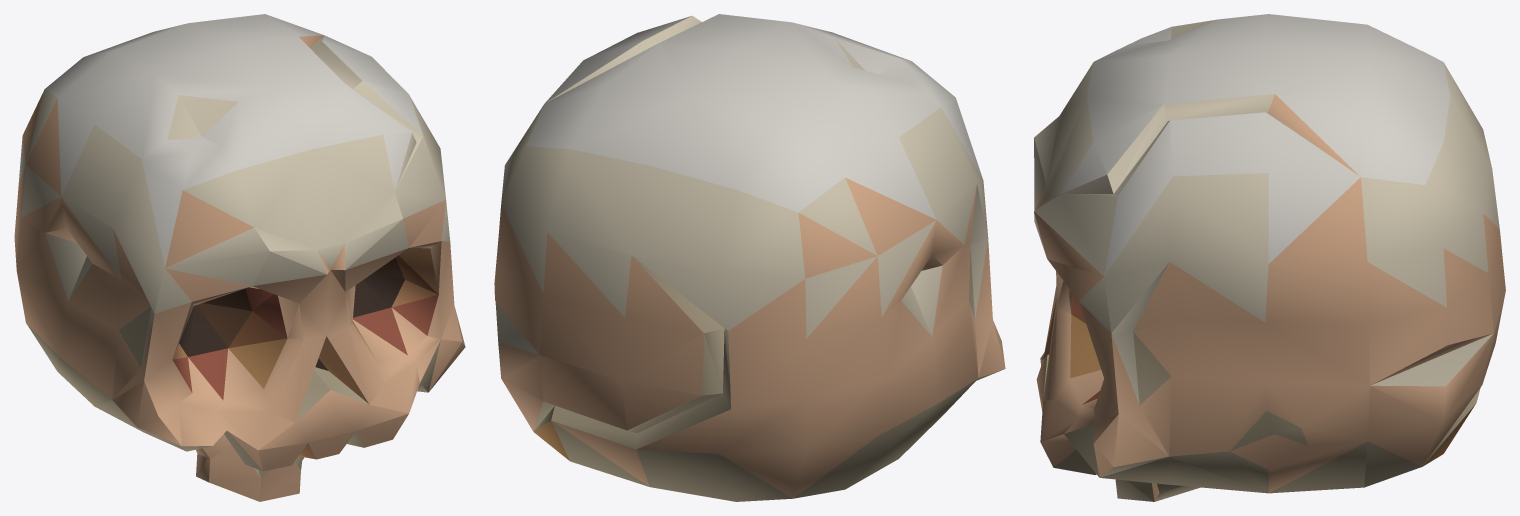
The picture shows the model from 3 angles, left to right: view 1: azimuth 30°, elevation 25°; view 2: azimuth 150°, elevation 25°; view 3: azimuth 270°, elevation 25°; orthographic projection. The views are drawn at different scales.
Visible parts, largest first — view 1: model; view 2: model; view 3: model.
Boxes of the visible parts, x1=… form: model: x1=14, y1=14, x2=465, y2=501; model: x1=494, y1=14, x2=1005, y2=501; model: x1=1034, y1=14, x2=1505, y2=501.
Bounding box in the file's own units: 0.6531 × 0.7296 × 0.6842.
